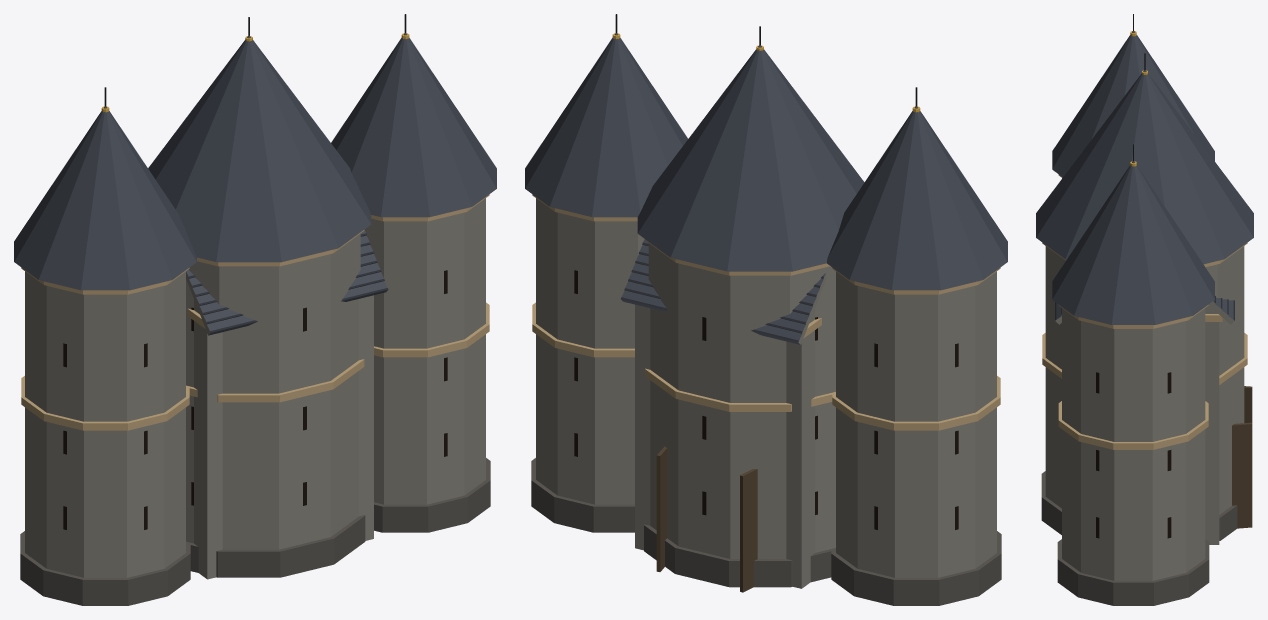
The model's file is stadtmauer.glb.
The picture shows the model from 3 angles, left to right: view 1: azimuth 30°, elevation 25°; view 2: azimuth 150°, elevation 25°; view 3: azimuth 270°, elevation 25°; orthographic projection. The views are drawn at different scales.
Visible parts, largest first — view 1: Tor, Eckturm; view 2: Tor, Eckturm; view 3: Tor, Eckturm.
Part boxes in pixels (<box>): Tor: <box>14,14,496,605</box>; Eckturm: <box>148,17,371,577</box>; Tor: <box>525,14,1007,605</box>; Eckturm: <box>637,26,864,587</box>; Tor: <box>1052,14,1252,605</box>; Eckturm: <box>1036,53,1253,540</box>.
Bounding box in the file's own units: 16.5 × 17.6 × 7.63.
